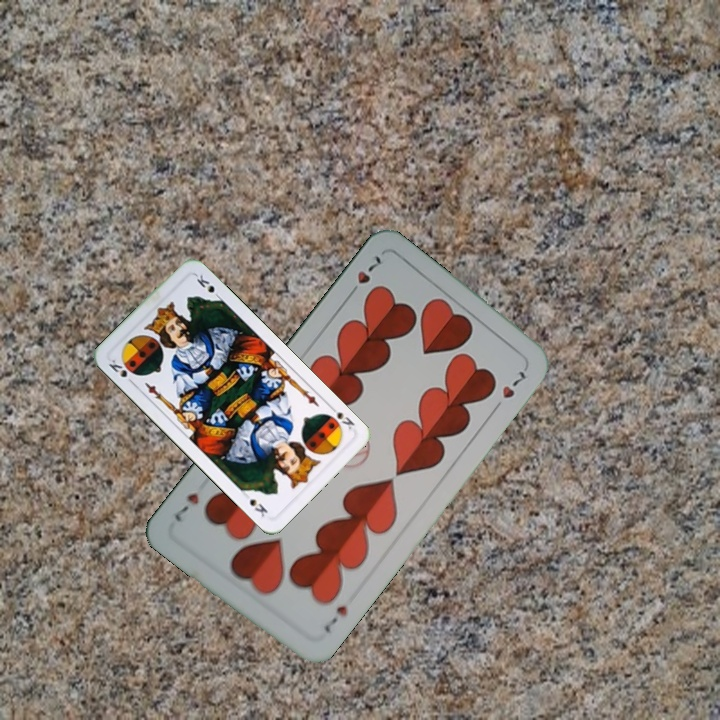H7: (343, 251, 384, 300), (319, 601, 351, 636)
SK: (104, 355, 137, 388), (325, 401, 357, 432)
